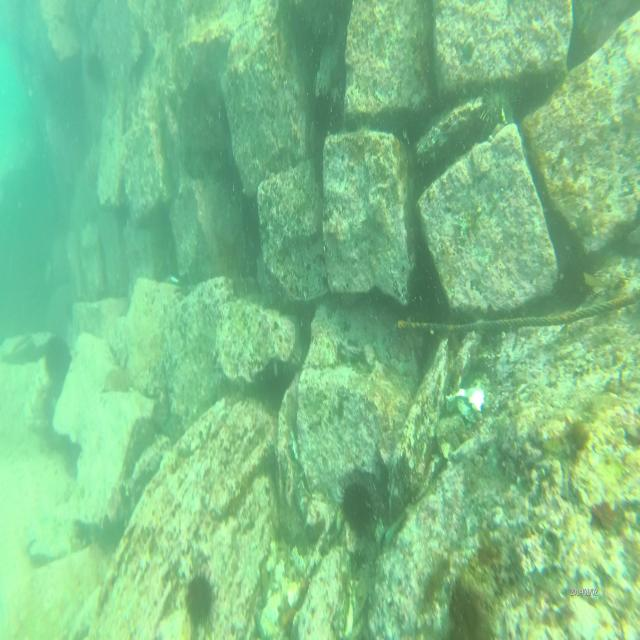echinus: (339, 474, 375, 533), (184, 569, 217, 628), (308, 84, 341, 138), (482, 79, 515, 133), (43, 335, 73, 383)
